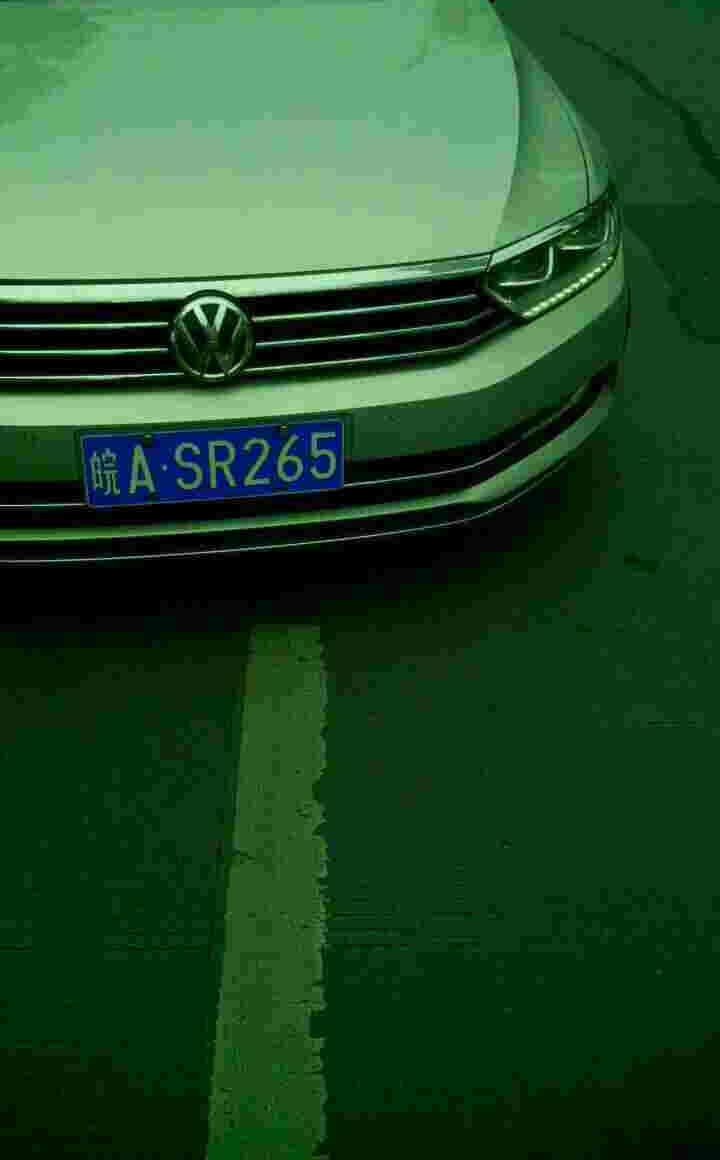car: (74, 429, 368, 497)
